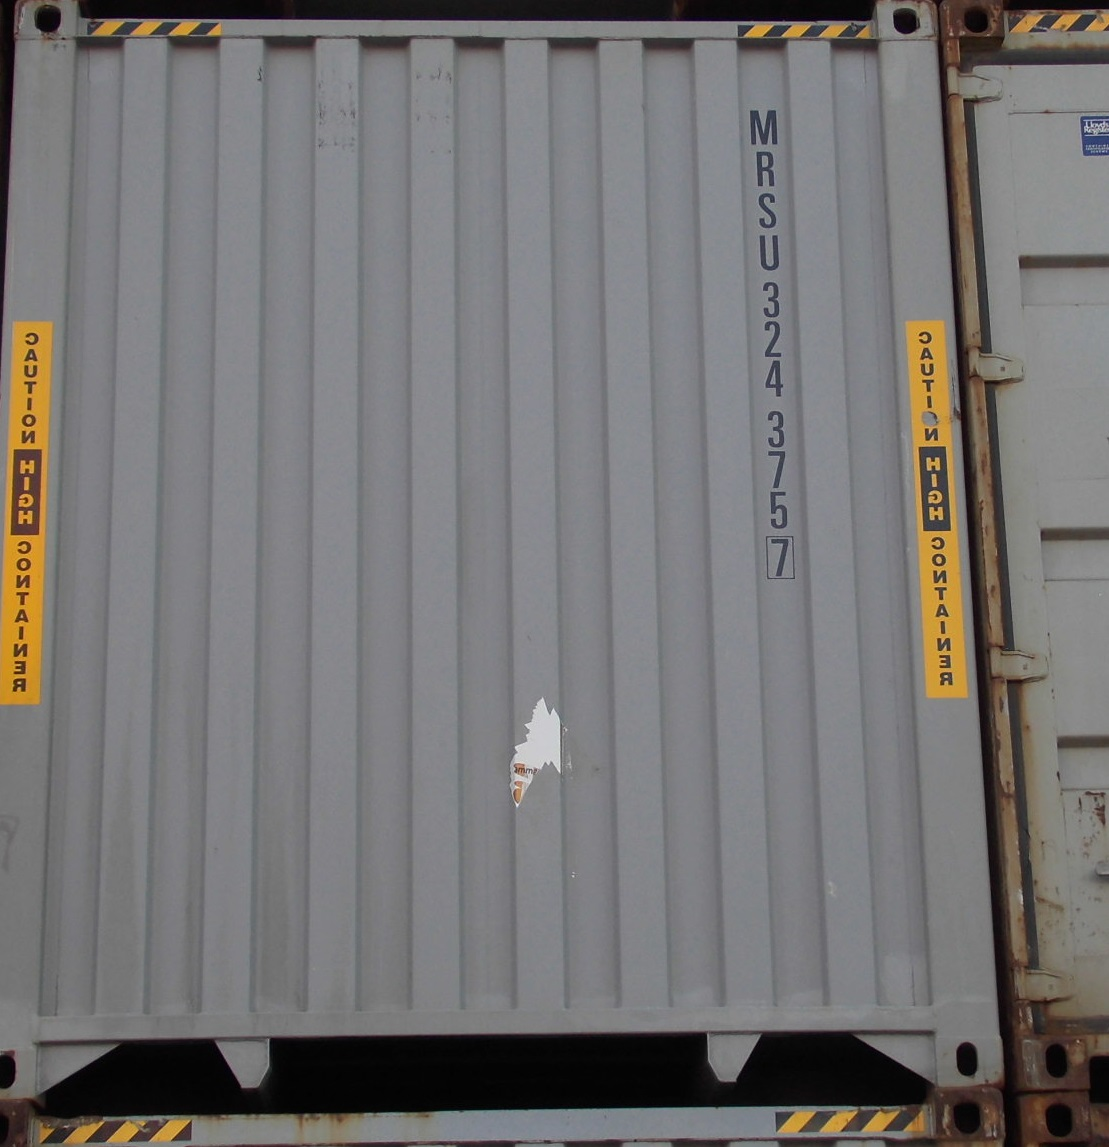container_no_door: (15, 10, 1004, 1102)
